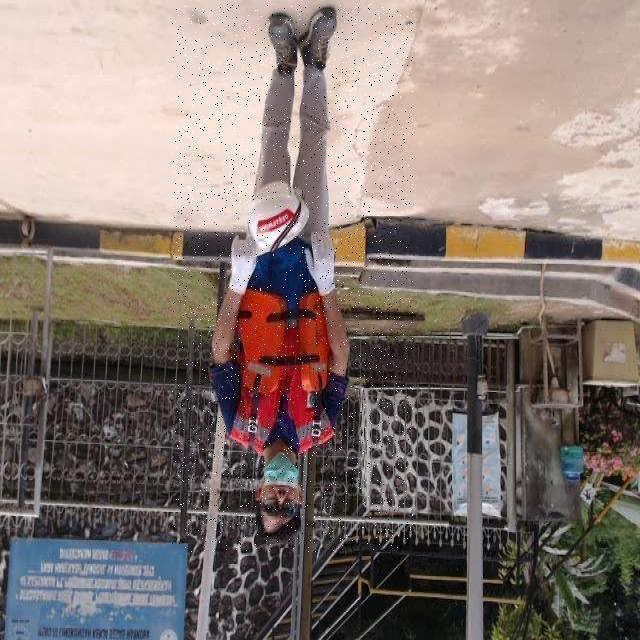Boots: (298, 5, 340, 70), (264, 11, 298, 81)
Gloves: (218, 238, 264, 295), (314, 234, 339, 294)
Helmet: (244, 178, 309, 259)
Vest: (226, 237, 337, 448)
